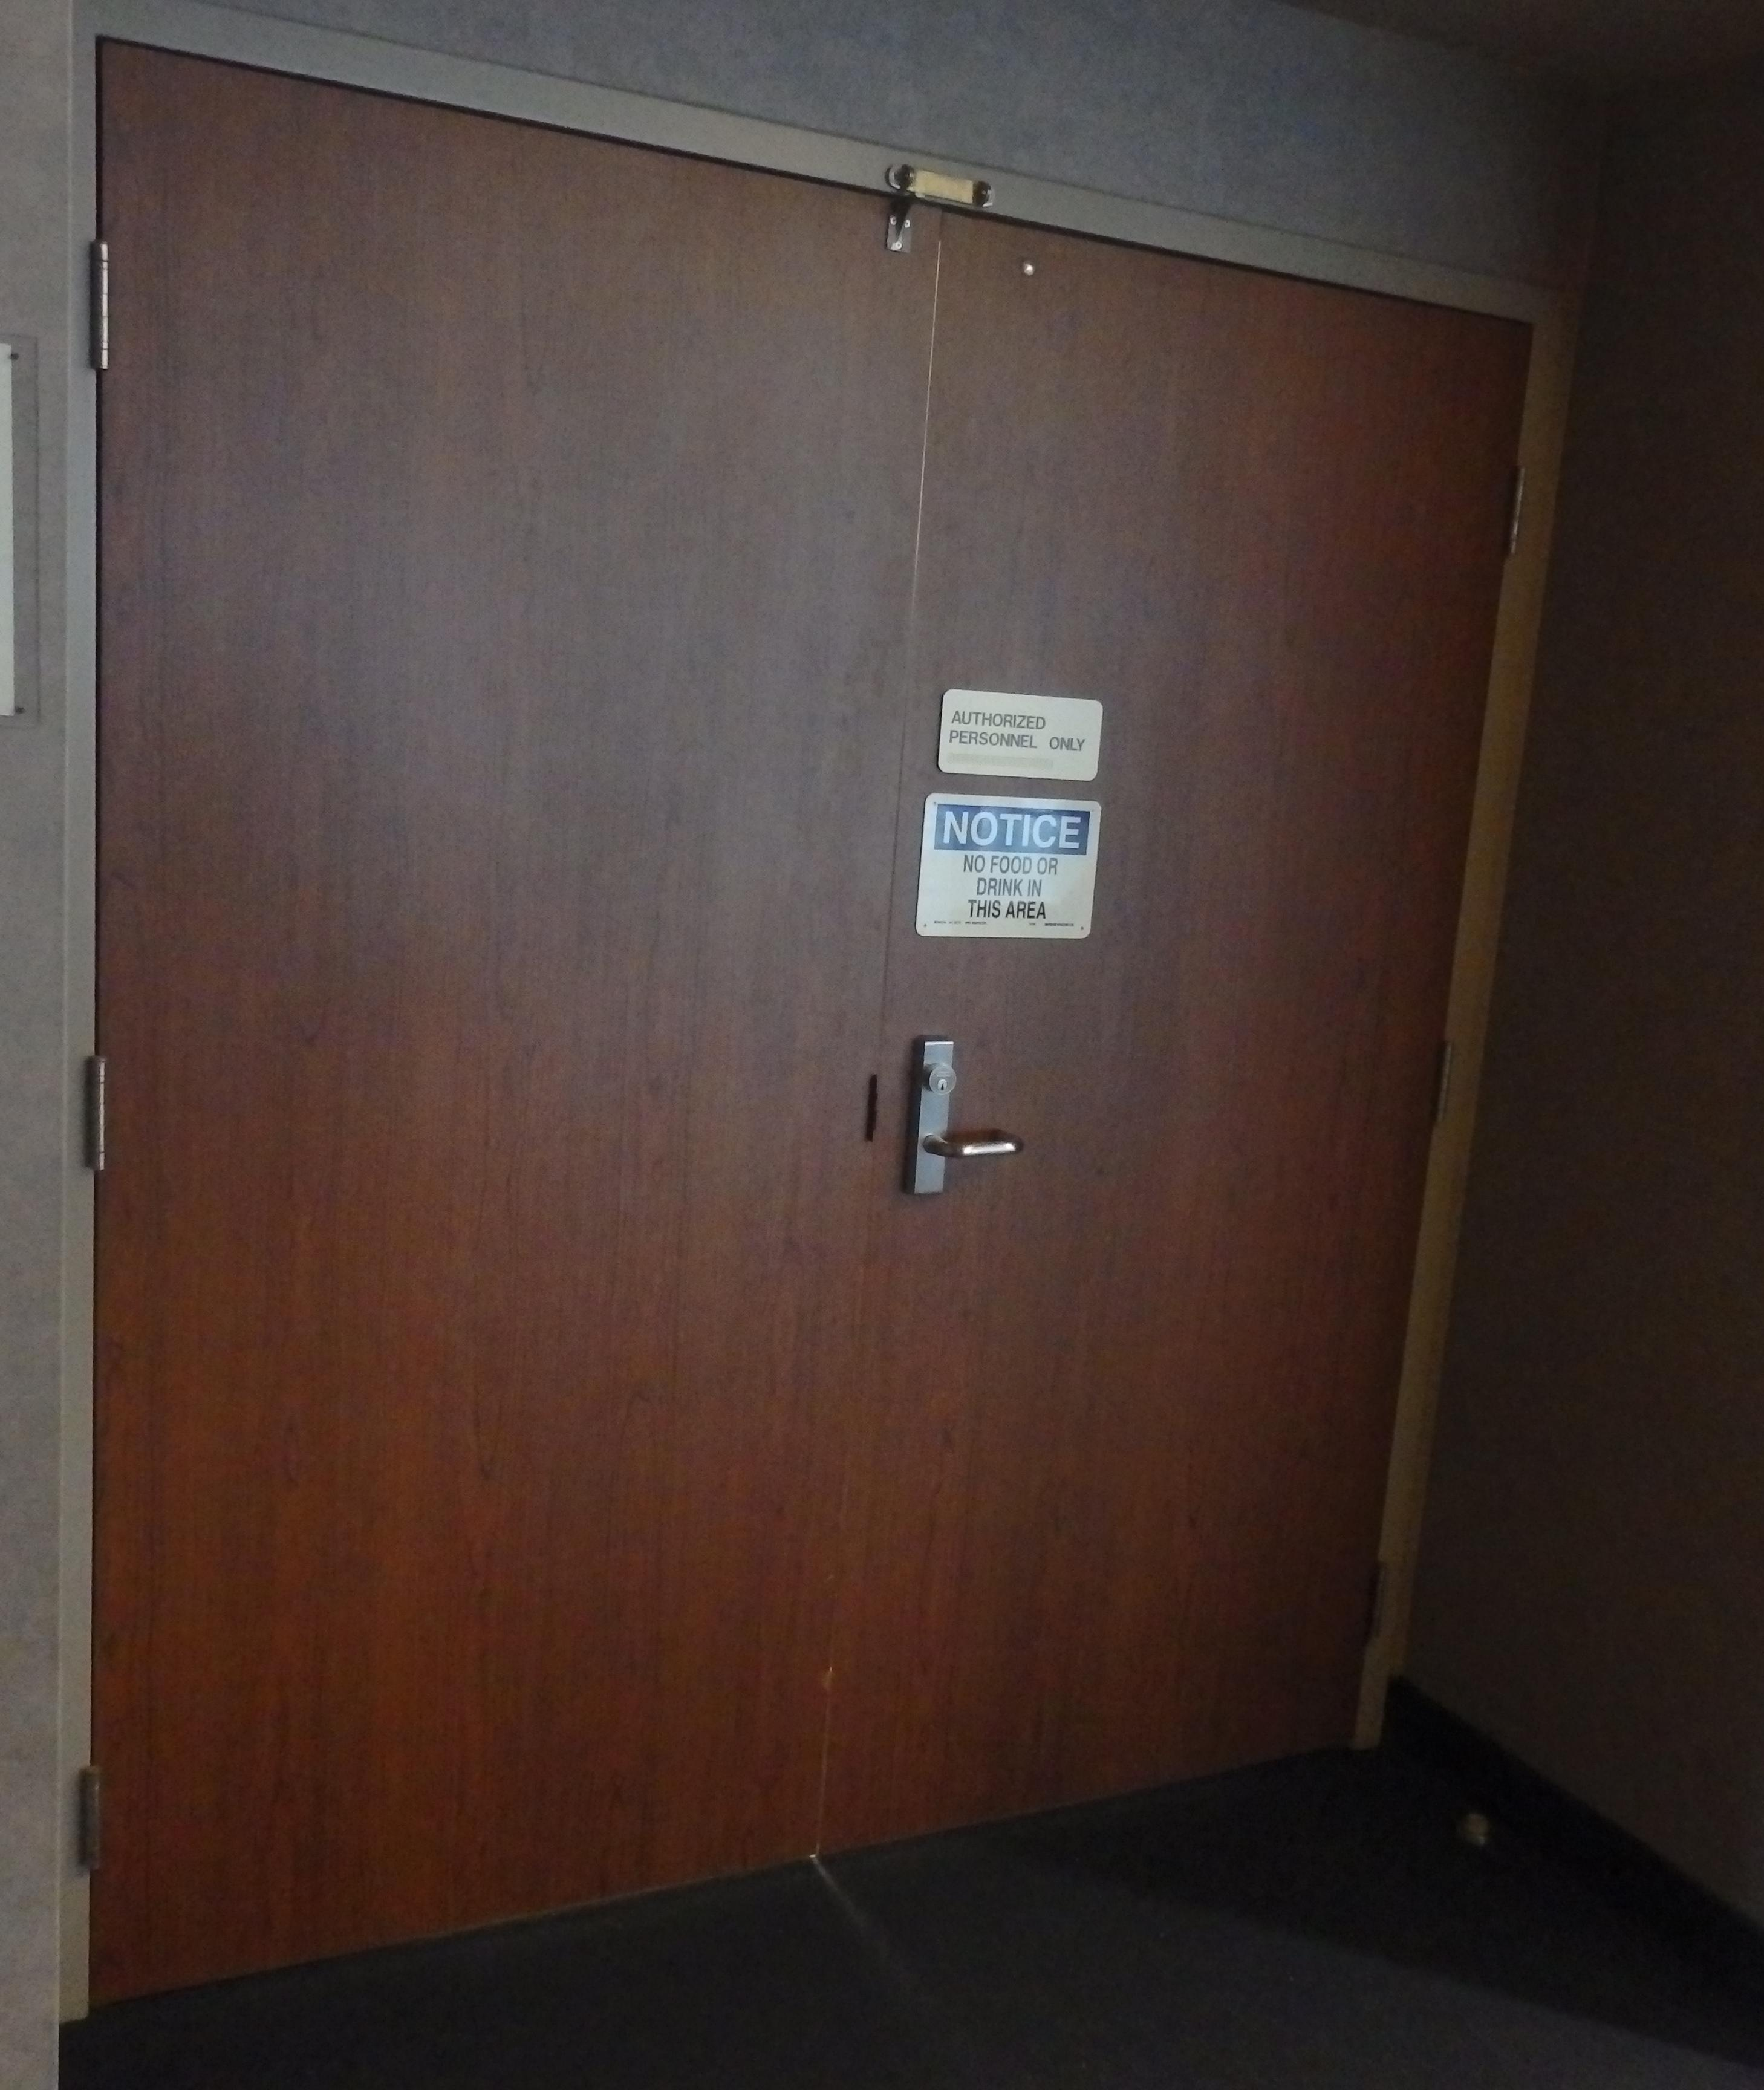door: (70, 14, 1456, 1932)
